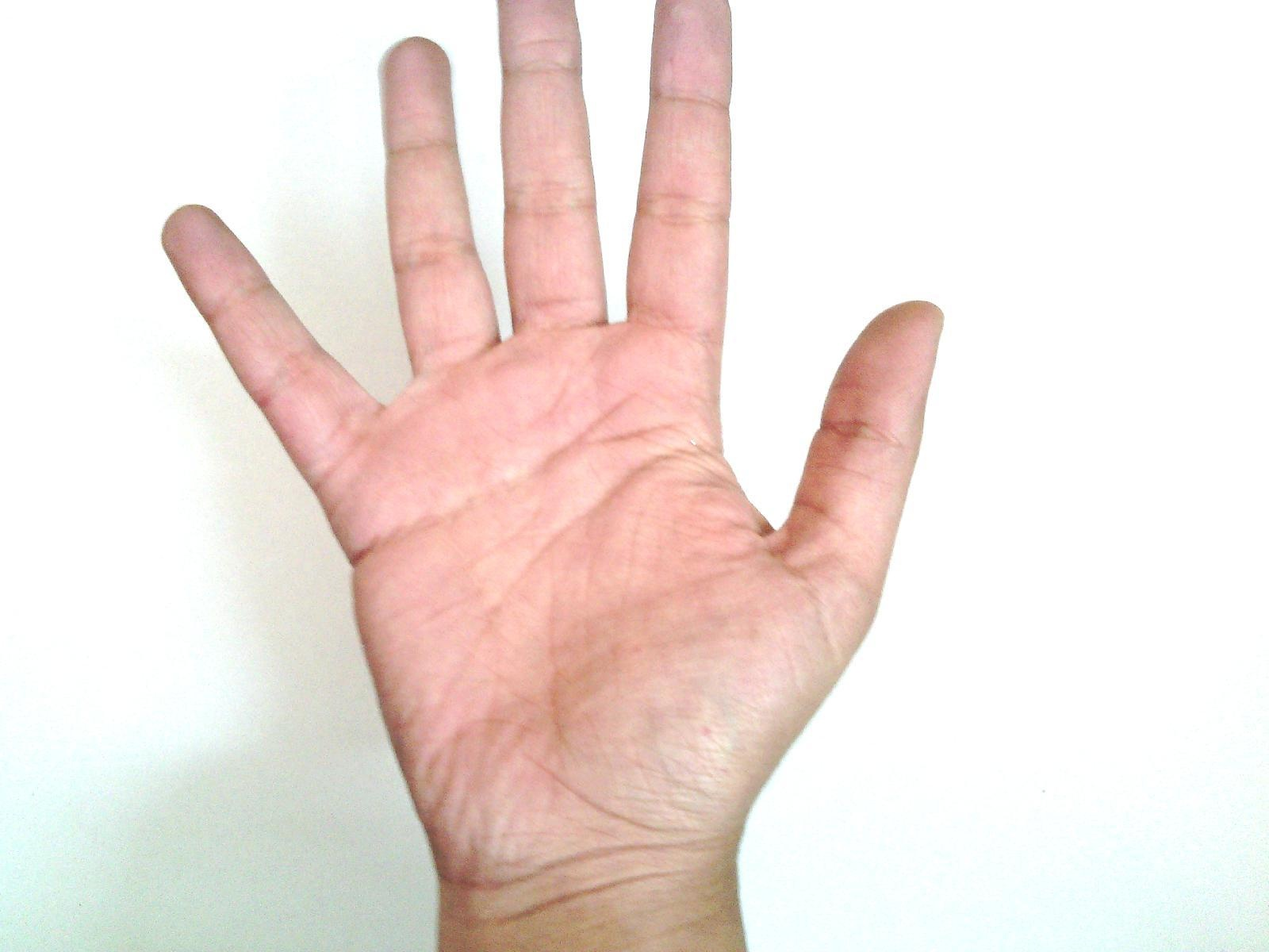open_palm: (158, 4, 948, 939)
